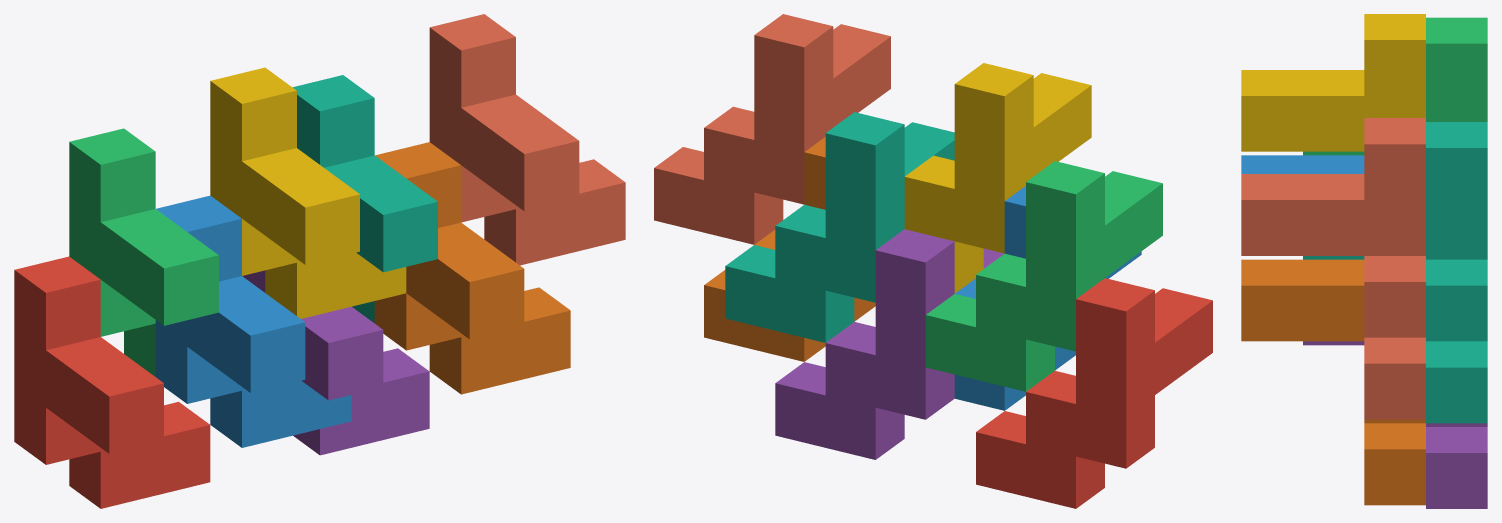
Rendered from tiling.obj.
3 views of the same model, side by side, from view 1: azimuth 30°, elevation 25°; view 2: azimuth 150°, elevation 25°; view 3: azimuth 270°, elevation 25° (orthographic). The views are drawn at different scales.
Parts seen in each view (by area): view 1: copy_1_domain_1, copy_1_domain_8, copy_1_domain_4, copy_1_domain_6, copy_1_domain_2, copy_1_domain_3, copy_1_domain_7, copy_1_domain_5; view 2: copy_1_domain_1, copy_1_domain_3, copy_1_domain_8, copy_1_domain_7, copy_1_domain_5, copy_1_domain_4, copy_1_domain_6, copy_1_domain_2; view 3: copy_1_domain_8, copy_1_domain_7, copy_1_domain_4, copy_1_domain_6, copy_1_domain_3, copy_1_domain_5, copy_1_domain_2.
Boxes of the visible parts, <box> form: copy_1_domain_1: <box>14,256,210,508</box>; copy_1_domain_8: <box>429,14,625,265</box>; copy_1_domain_4: <box>210,67,406,318</box>; copy_1_domain_6: <box>374,142,570,394</box>; copy_1_domain_2: <box>155,195,351,447</box>; copy_1_domain_3: <box>69,128,218,376</box>; copy_1_domain_7: <box>293,75,437,322</box>; copy_1_domain_5: <box>242,270,429,455</box>; copy_1_domain_1: <box>976,278,1212,508</box>; copy_1_domain_3: <box>925,161,1162,391</box>; copy_1_domain_8: <box>654,14,890,244</box>; copy_1_domain_7: <box>725,112,954,342</box>; copy_1_domain_5: <box>775,229,1004,459</box>; copy_1_domain_4: <box>904,63,1091,293</box>; copy_1_domain_6: <box>704,137,875,361</box>; copy_1_domain_2: <box>954,186,1141,410</box>; copy_1_domain_8: <box>1241,118,1425,419</box>; copy_1_domain_7: <box>1303,122,1487,423</box>; copy_1_domain_4: <box>1241,14,1425,151</box>; copy_1_domain_6: <box>1241,259,1425,505</box>; copy_1_domain_3: <box>1303,17,1487,155</box>; copy_1_domain_5: <box>1303,341,1487,508</box>; copy_1_domain_2: <box>1241,155,1364,173</box>.
Bounding box in the file's own units: 10 × 7 × 4.
